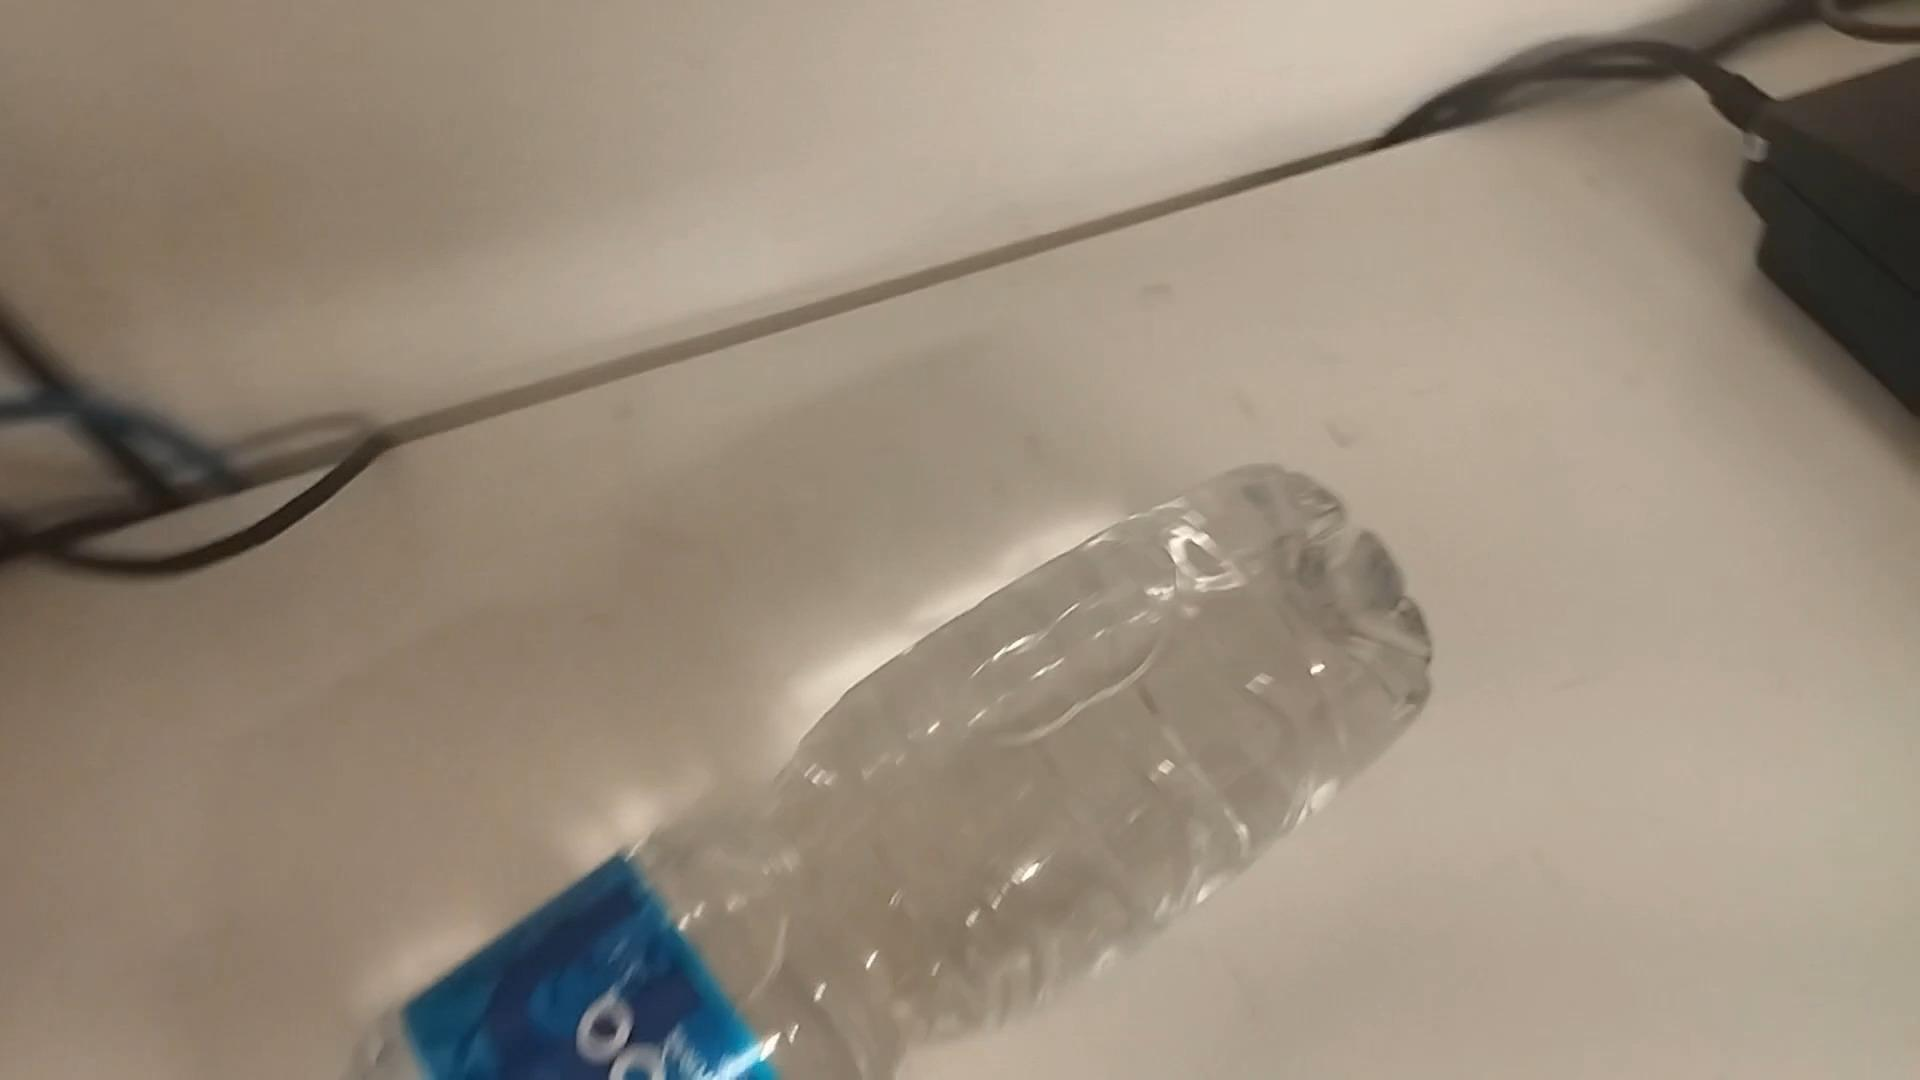agua: (359, 471, 1406, 1076)
